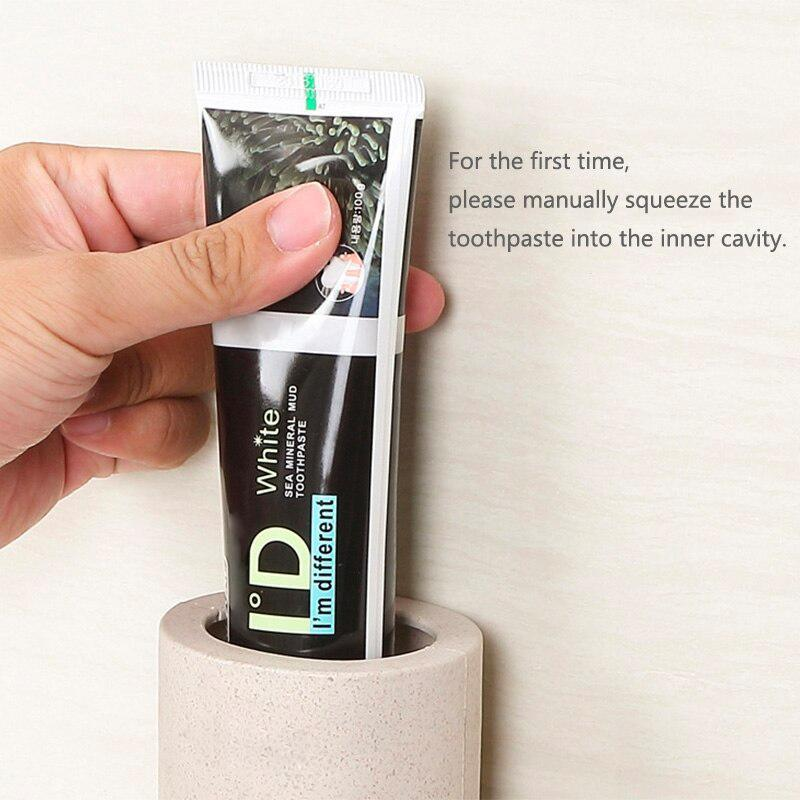toothpaste: (179, 39, 434, 680)
